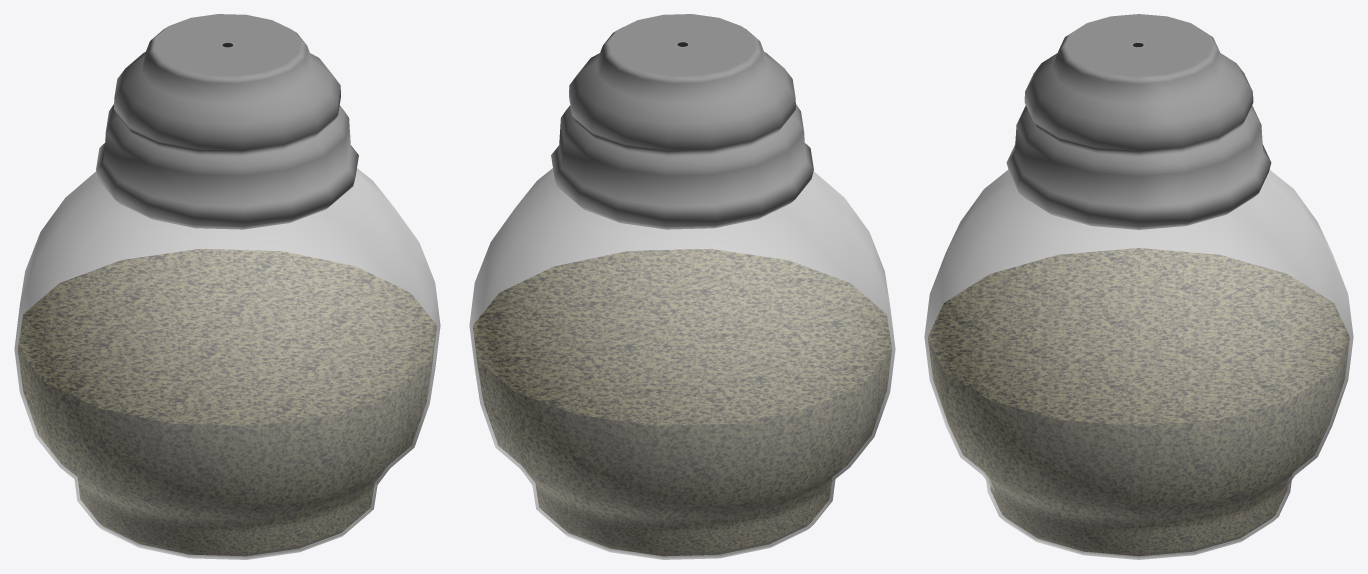
File: pepper_half.fbx
3 renders of one model, left to right at view 1: azimuth 30°, elevation 25°; view 2: azimuth 150°, elevation 25°; view 3: azimuth 270°, elevation 25°, orthographic.
Visible parts, largest first — view 1: pepper_half; view 2: pepper_half; view 3: pepper_half.
Part boxes in pixels (x1=…): pepper_half: x1=14, y1=14, x2=440, y2=559; pepper_half: x1=469, y1=14, x2=895, y2=559; pepper_half: x1=924, y1=14, x2=1353, y2=559.
Bounding box in the file's own units: 6.53 × 7.66 × 6.53.
Materials: 3 (2 with a texture image).
